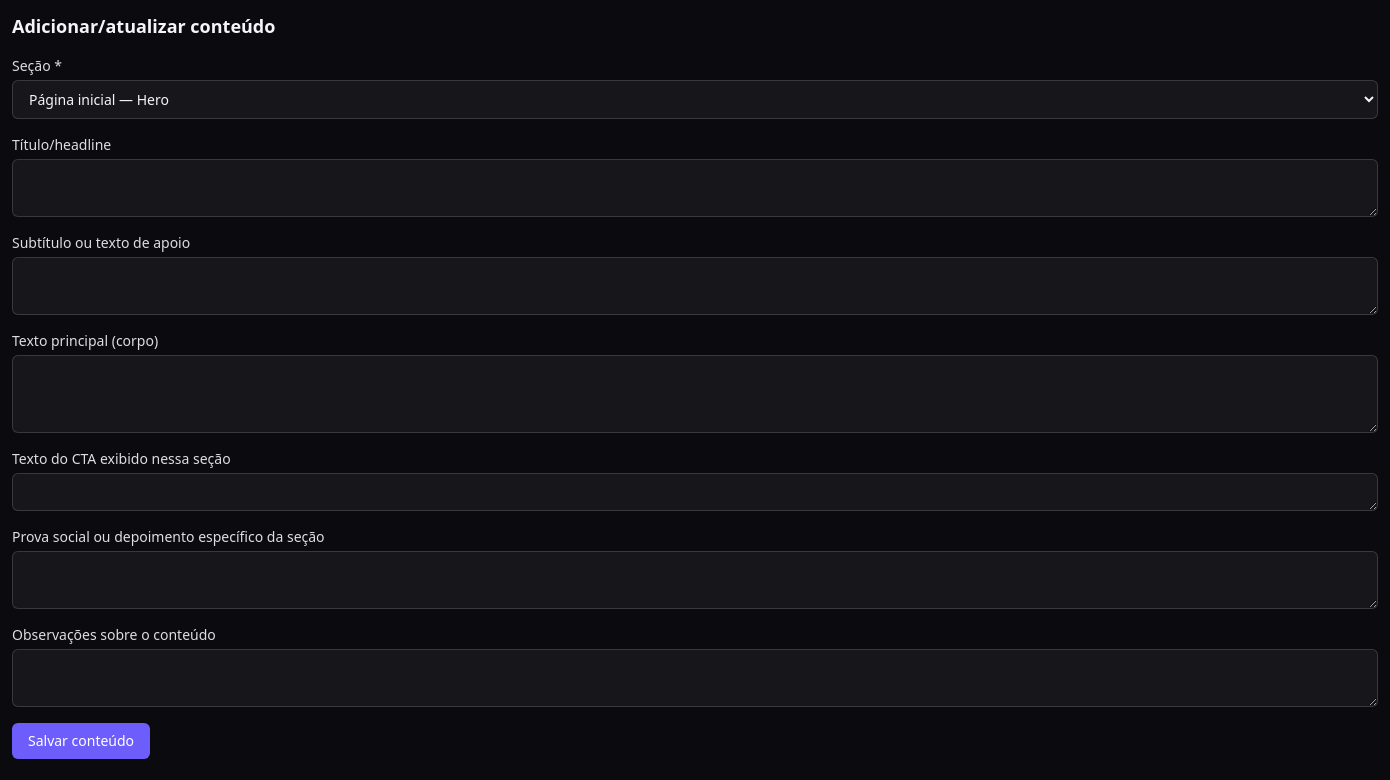
SectionCopyForm › shows a pending state while the action is running
This screenshot has width=1390, height=780.
Click the button "Salvar conteúdo" at (81, 741), box [12, 723, 150, 759]
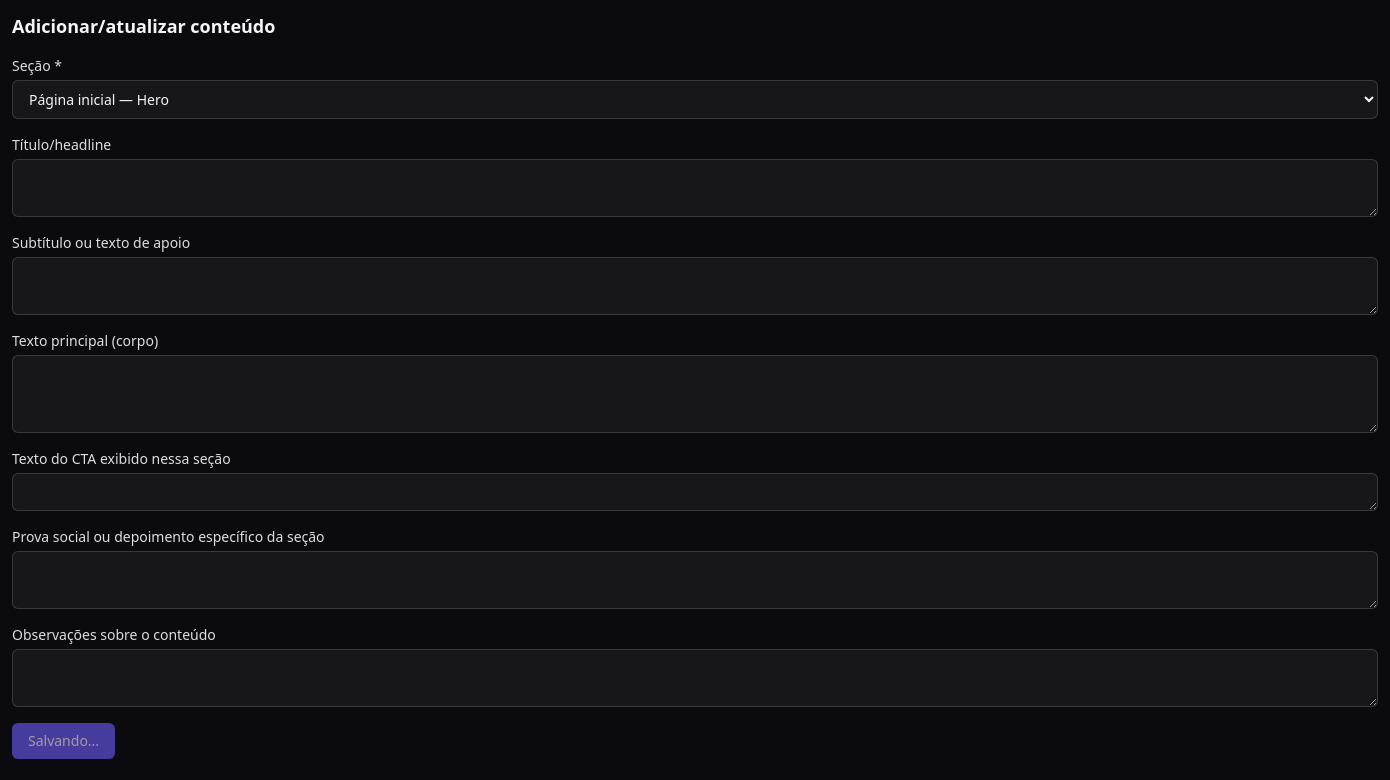
Expected: the button "Salvando..." is disabled, [12, 723, 115, 759]
